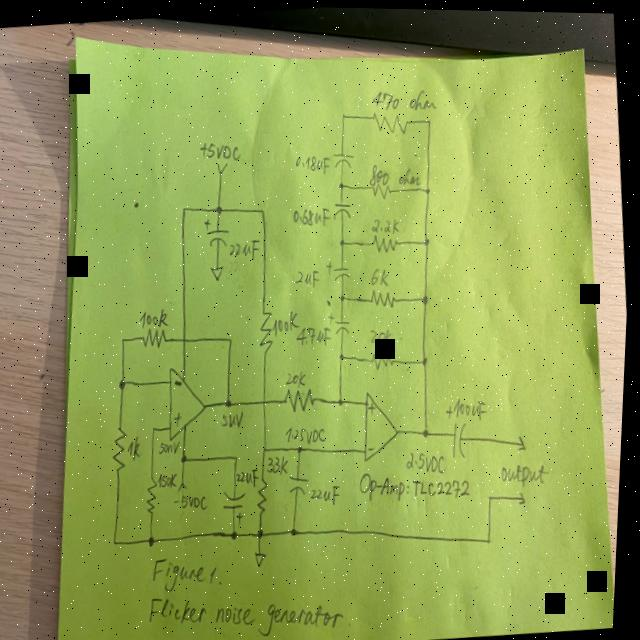capacitor: (445, 399, 474, 457), (223, 486, 251, 526), (203, 212, 232, 247), (325, 256, 353, 282), (330, 304, 353, 333), (289, 470, 314, 495), (331, 147, 356, 170), (332, 196, 354, 220), (331, 196, 354, 218)
crossover: (181, 332, 191, 344), (263, 395, 270, 403)
ground: (209, 262, 227, 281), (256, 547, 272, 566)
junction: (420, 289, 432, 303), (119, 375, 129, 388), (151, 532, 160, 546), (232, 527, 242, 539), (259, 525, 269, 537), (337, 177, 347, 189), (338, 393, 348, 405), (487, 531, 497, 542), (422, 233, 432, 244), (225, 395, 235, 406), (421, 353, 430, 365), (215, 201, 224, 213), (182, 450, 191, 462), (293, 523, 302, 534), (424, 424, 433, 435), (180, 202, 189, 212), (228, 333, 237, 343), (259, 203, 267, 214), (340, 291, 348, 300), (298, 442, 306, 451), (153, 422, 160, 432), (424, 183, 431, 192), (339, 236, 346, 244), (340, 109, 347, 117), (340, 350, 347, 358), (121, 334, 128, 342), (489, 490, 496, 498), (115, 537, 122, 545), (425, 114, 432, 122), (263, 443, 271, 450), (235, 452, 241, 458)
resistor: (283, 382, 320, 412), (370, 107, 411, 134), (256, 305, 279, 353), (111, 423, 134, 470), (141, 324, 170, 348), (369, 285, 399, 308), (257, 475, 274, 514), (371, 346, 399, 369), (371, 229, 400, 251), (146, 477, 162, 513), (371, 178, 393, 198)
terminal: (518, 430, 530, 450), (215, 159, 229, 175), (520, 487, 530, 502), (179, 479, 191, 491)
text: (150, 577, 358, 640), (360, 459, 475, 505), (154, 550, 228, 593), (370, 82, 438, 113), (368, 158, 423, 186), (502, 457, 553, 486), (407, 445, 450, 474), (291, 201, 332, 227), (198, 136, 242, 160), (295, 320, 333, 346), (294, 149, 331, 175), (456, 392, 492, 418), (286, 421, 328, 443), (228, 235, 263, 260), (138, 304, 171, 328), (177, 489, 213, 511), (312, 480, 344, 504), (274, 307, 302, 334), (294, 264, 322, 287), (370, 213, 401, 233), (267, 450, 292, 474), (222, 407, 248, 427), (369, 263, 392, 285), (370, 324, 396, 342), (128, 433, 145, 460), (286, 367, 309, 386), (159, 469, 182, 488), (238, 466, 261, 484), (159, 437, 184, 453), (175, 408, 185, 427), (369, 398, 378, 413), (174, 376, 185, 387), (369, 441, 378, 450)
